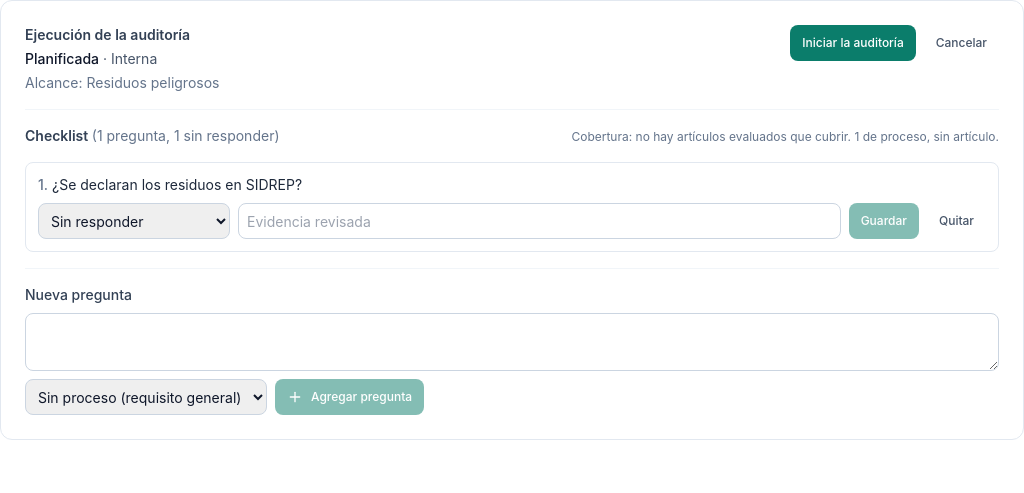
avanzar la auditoría › si la API rechaza, lo dice y no cambia el estado
Expected: the text "¿Se declaran los residuos en SIDREP?" is shown, top-left (52, 176), bottom-right (302, 193)
Click the button "Iniciar la auditoría": (853, 43) top-left (790, 25), bottom-right (916, 61)
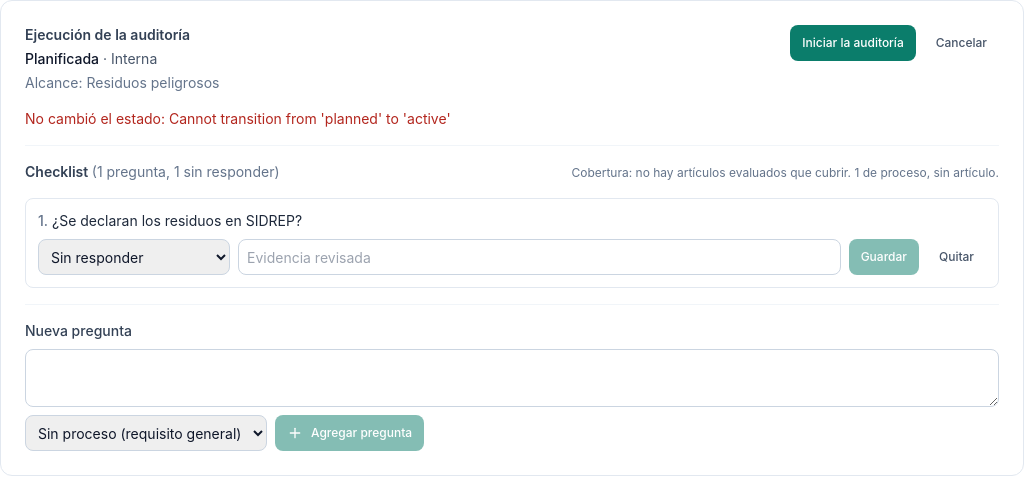
Expected: the text "Planificada" is shown, top-left (25, 50), bottom-right (99, 67)
Expected: the message shows "No cambió el estado", top-left (25, 110), bottom-right (451, 127)
